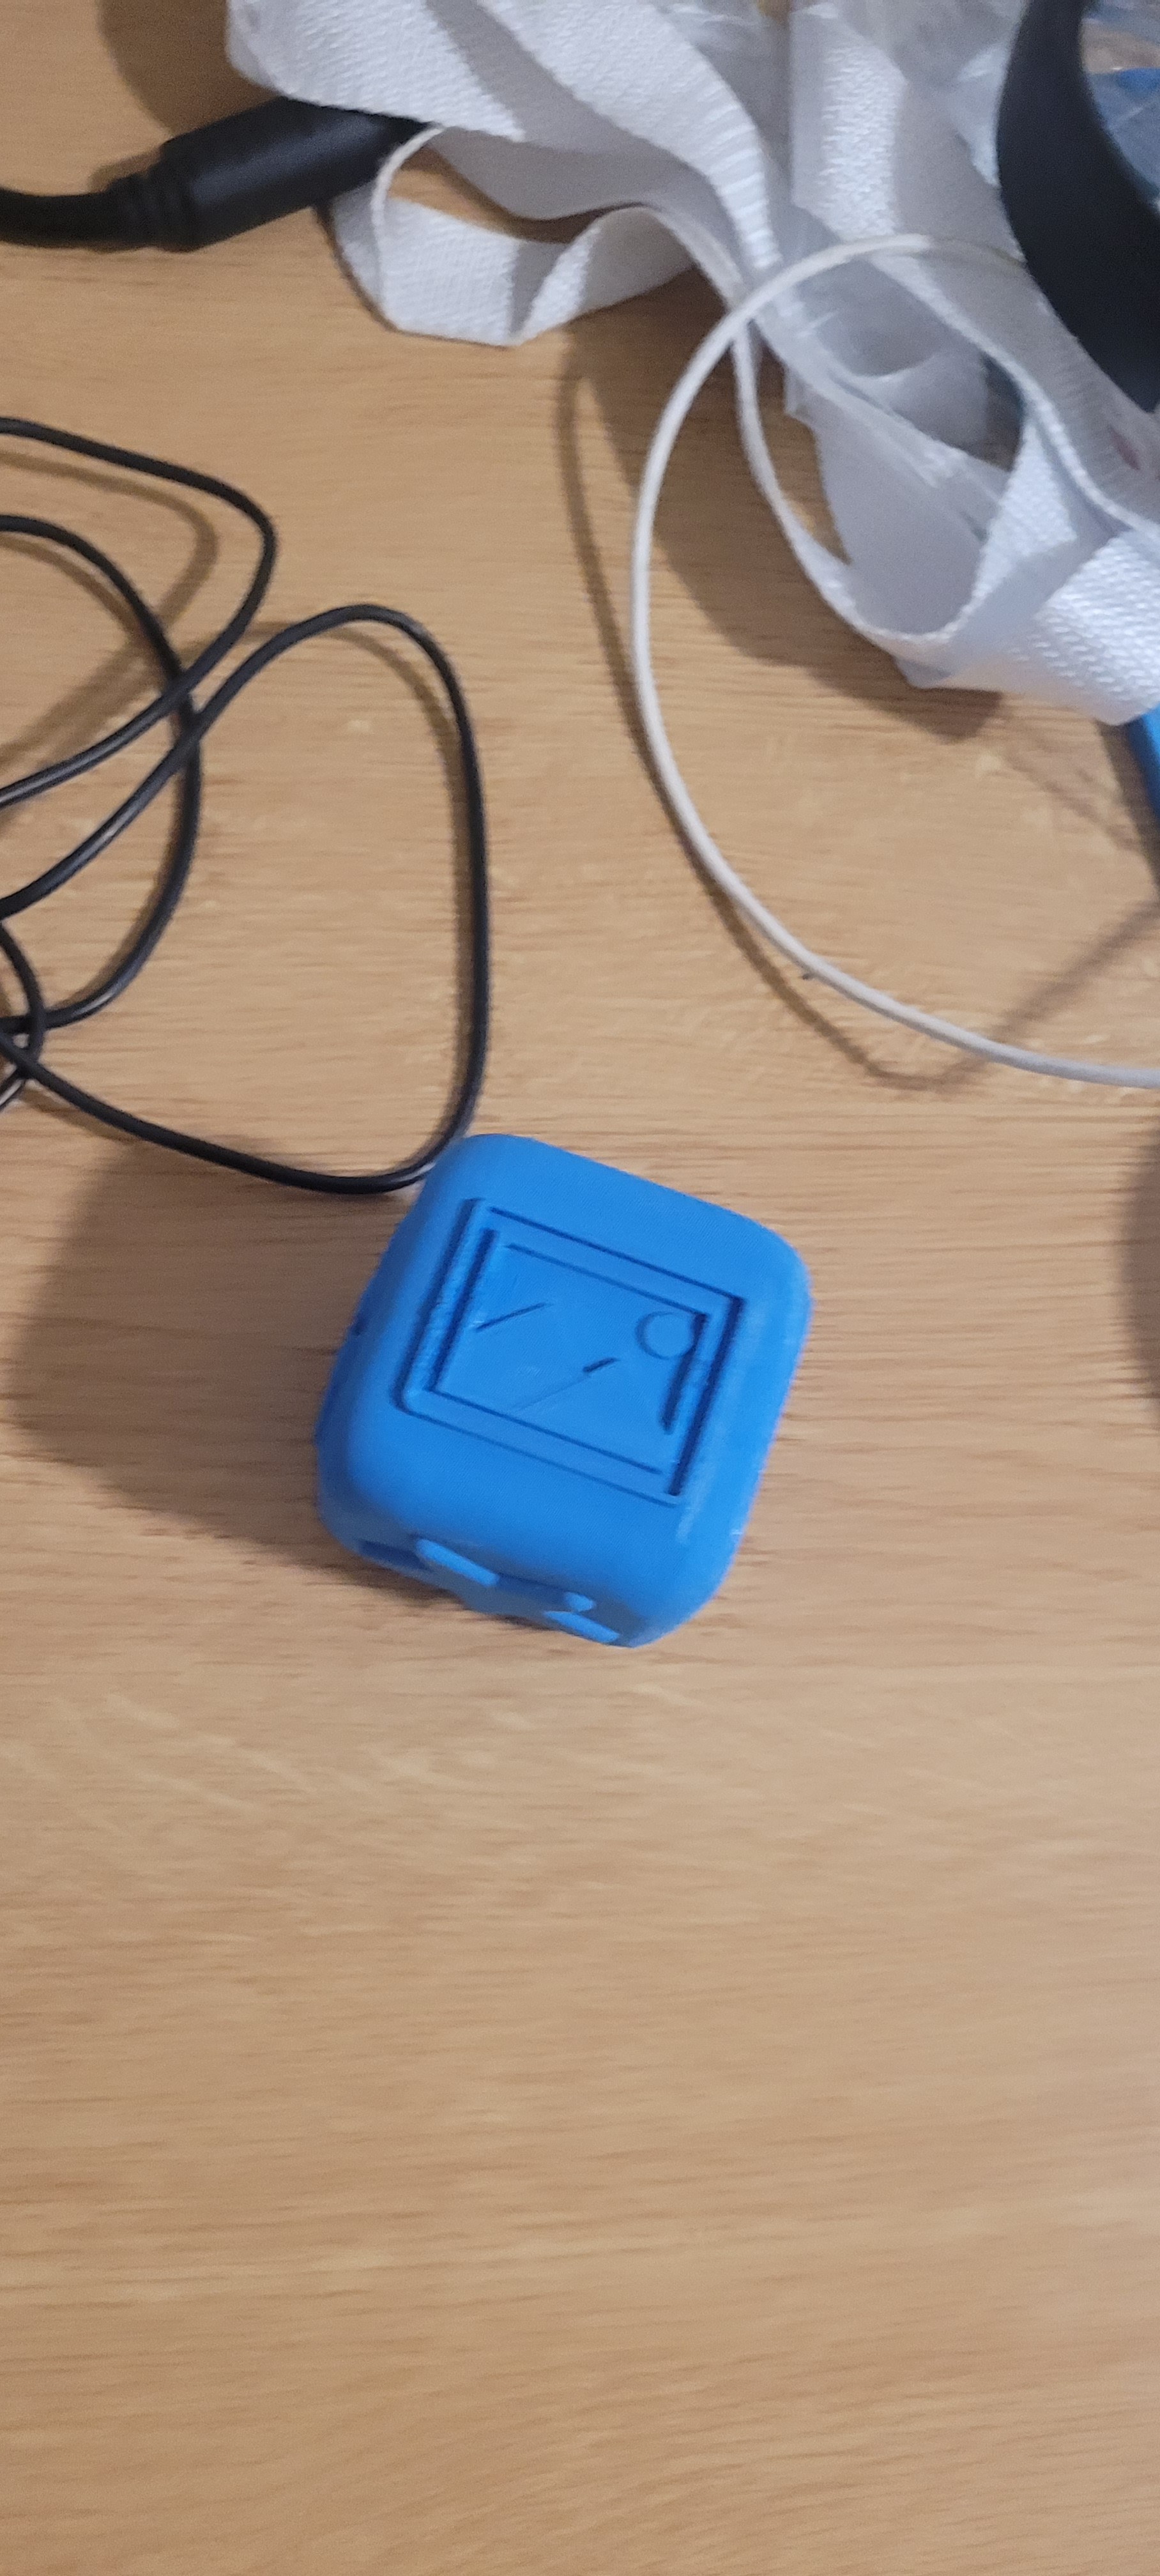Story: (297, 1212, 830, 1444)
